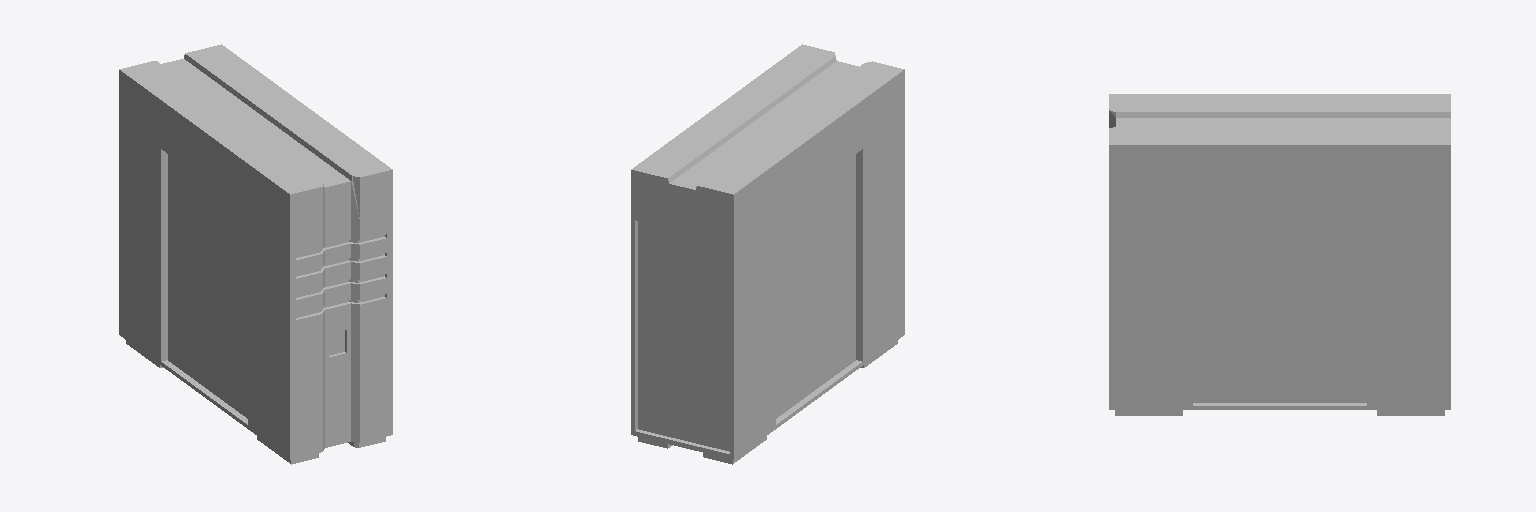
The picture shows the model from 3 angles: view 1: azimuth 30°, elevation 25°; view 2: azimuth 150°, elevation 25°; view 3: azimuth 270°, elevation 25°; orthographic projection.
Parts seen in each view (by area): view 1: pc; view 2: pc; view 3: pc.
Boxes of the visible parts, x1=… form: pc: x1=119, y1=44, x2=392, y2=464; pc: x1=631, y1=44, x2=904, y2=464; pc: x1=1109, y1=94, x2=1450, y2=415.
Size of the model in its own units: 0.3467 by 0.8811 by 1.